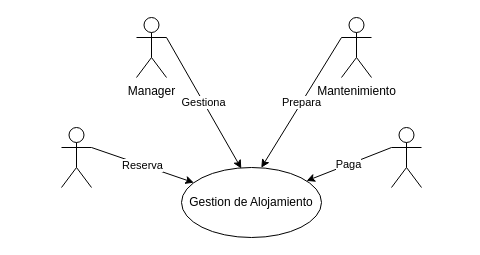
This 480x255 diagram has some shape labels left out. Each missing label, with the centre of its shape:
"Empleado desplazado" belongs at point (76, 157).
"LogiRail Contabilidad" belongs at point (406, 157).
